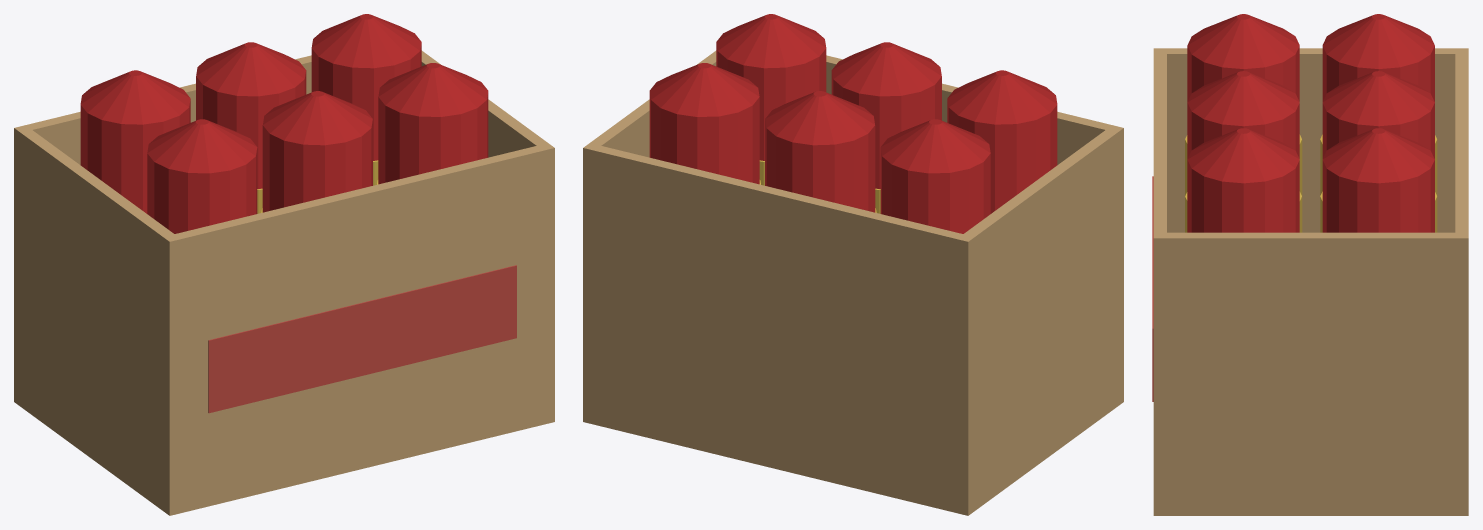
The model's file is ShotgunShells.fbx.
3 views of the same model, side by side, from view 1: azimuth 30°, elevation 25°; view 2: azimuth 150°, elevation 25°; view 3: azimuth 270°, elevation 25° (orthographic).
Visible parts, largest first — view 1: Prop_ShotgunShells; view 2: Prop_ShotgunShells; view 3: Prop_ShotgunShells.
Boxes of the visible parts, x1=… form: Prop_ShotgunShells: x1=14, y1=14, x2=554, y2=515; Prop_ShotgunShells: x1=583, y1=14, x2=1123, y2=515; Prop_ShotgunShells: x1=1152, y1=14, x2=1468, y2=515.
Size of the model in its own units: 10 by 8.5 by 7.03.
